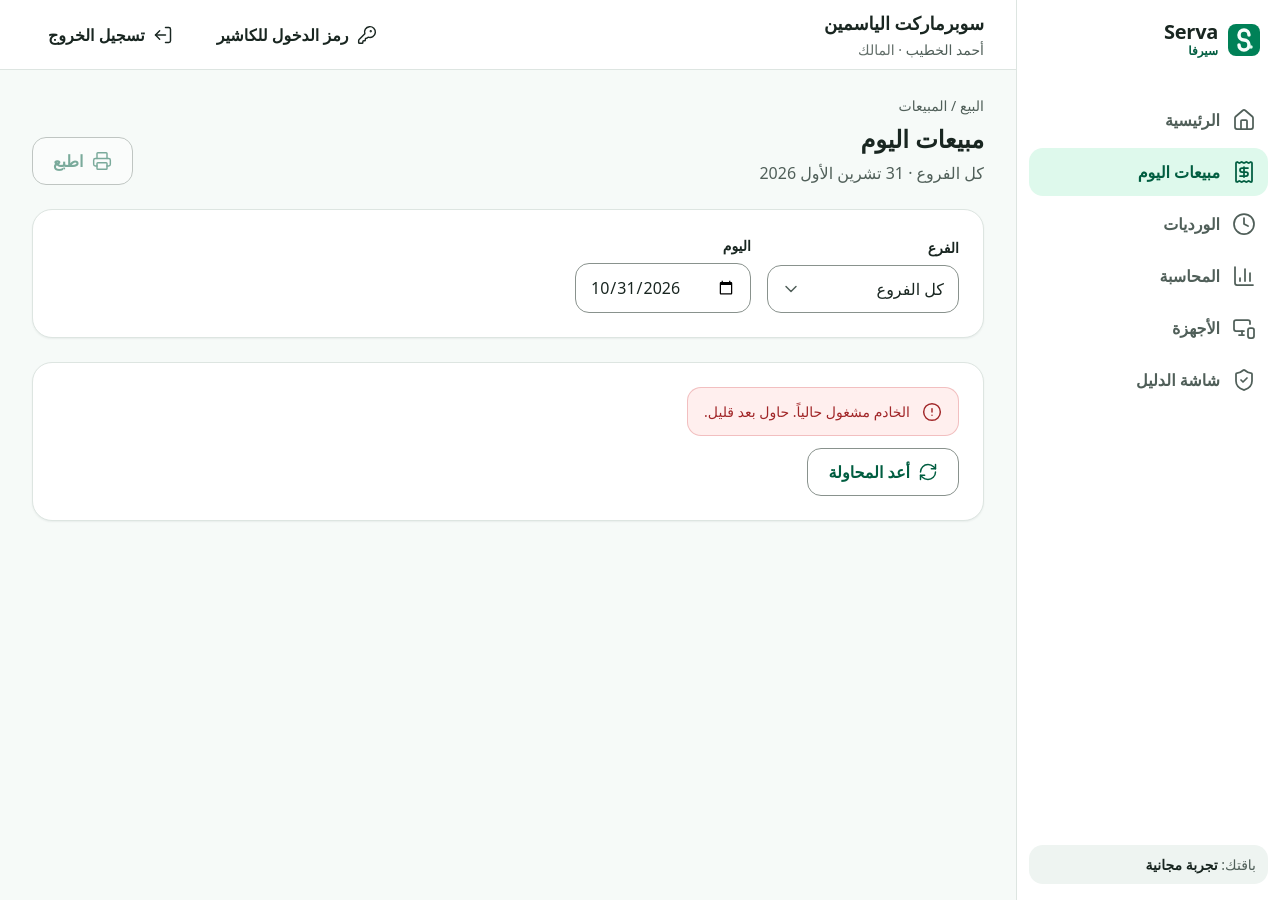
Scenario: «مبيعات اليوم» › shows the error with a retry that asks again
The width and height of the screenshot is (1280, 900).
Check: the text "الخادم مشغول حالياً. حاول بعد قليل." is shown, box [704,400,910,423]
Check: the button "اطبع" is disabled, box [32,137,132,185]
Click the button "أعد المحاولة": point(883, 472) [808,448,959,496]
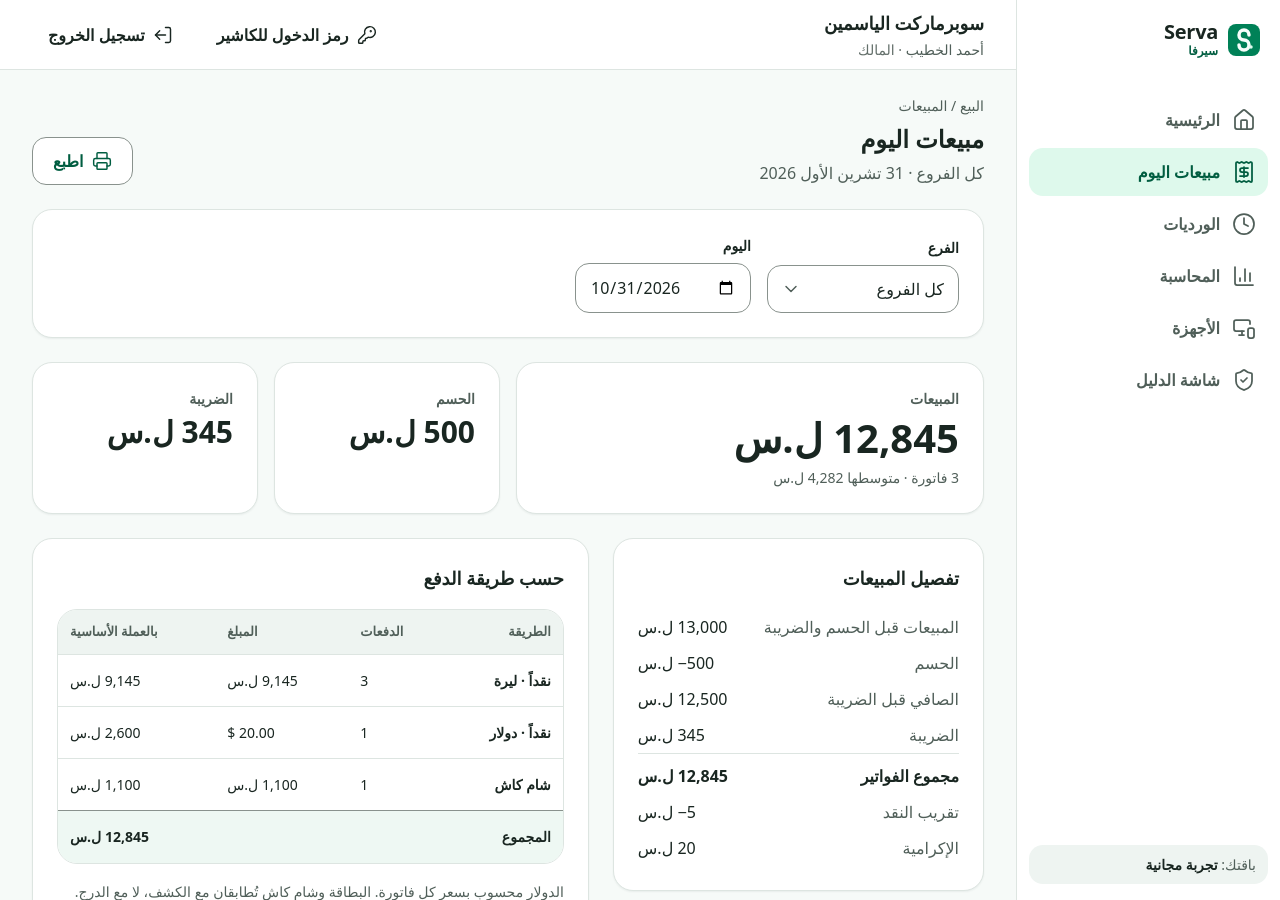
Check: the text "المبيعات قبل الحسم والضريبة" is shown, box [764,615,959,639]
